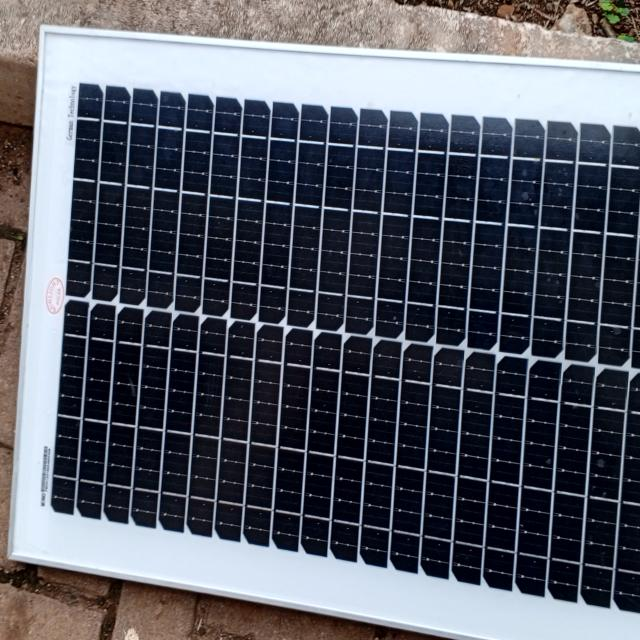Clean: (59, 46, 640, 555)
